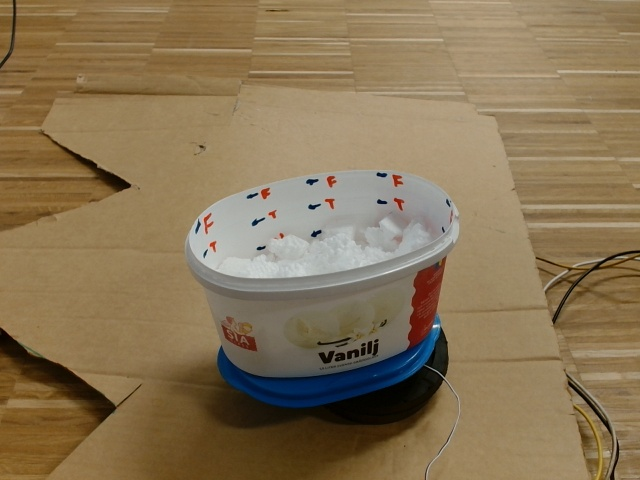Big_half: (181, 164, 466, 289)
